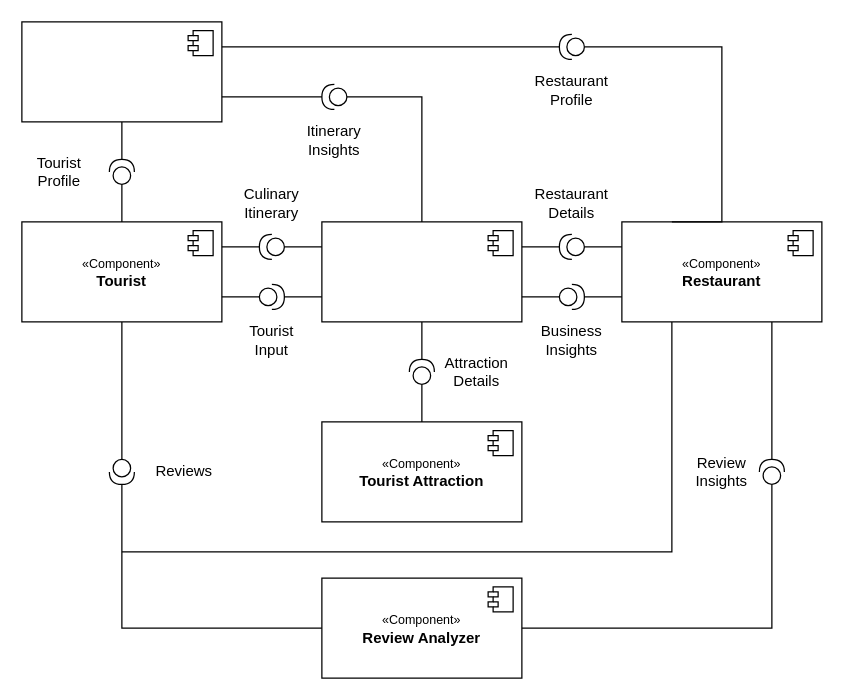
This 844x700 diagram has some shape labels left out. The centre of each missing label's shape, as x and y in pixels:
"«Component» Government" goes at point 121,71.
"«Component» Itinerary" goes at point 421,271.
